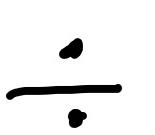div: (8, 37, 120, 126)
